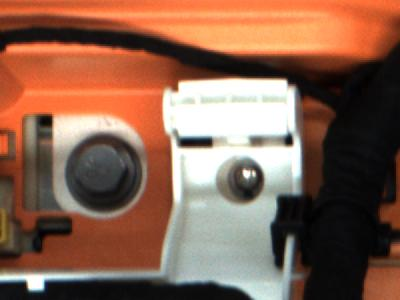nut_b: (61, 135, 148, 215)
